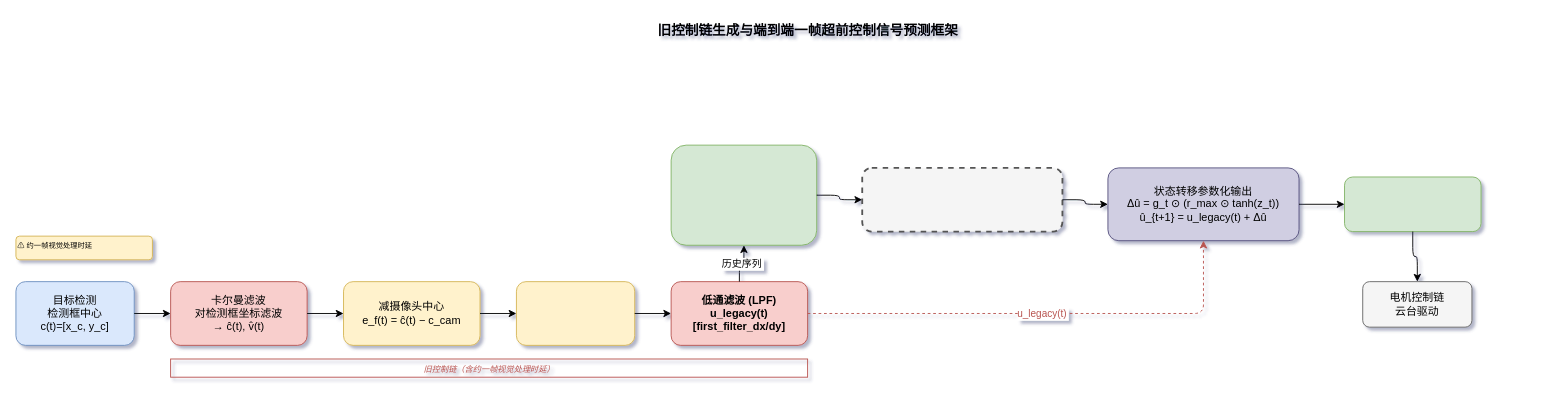
This 1557x399 diagram has some shape labels left out. The centre of each missing label's shape, as x and y in pixels:
DSCGNet 双流因果编码 + 质量分支 Δ-head (z_t) + Gate-head (g_t): (x=962, y=199)
特征构造 (T=16帧) X流: [fx, Δfx, Δ²fx] Y流: [fy, Δfy, Δ²fy] 质量: [conf, logA, miss, dt]: (x=743, y=194)
阶跃限幅 step clamp → ẽ(t): (x=575, y=313)
预测输出 û_{t+1} (pred_ux, pred_uy): (x=1412, y=204)
